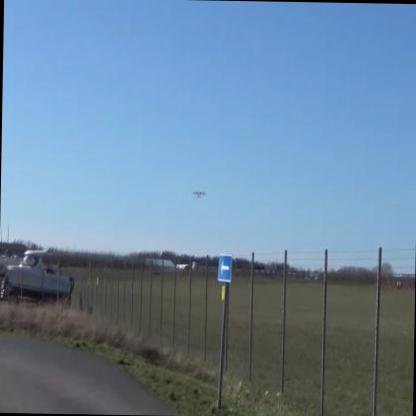plane: (191, 183, 209, 206)
